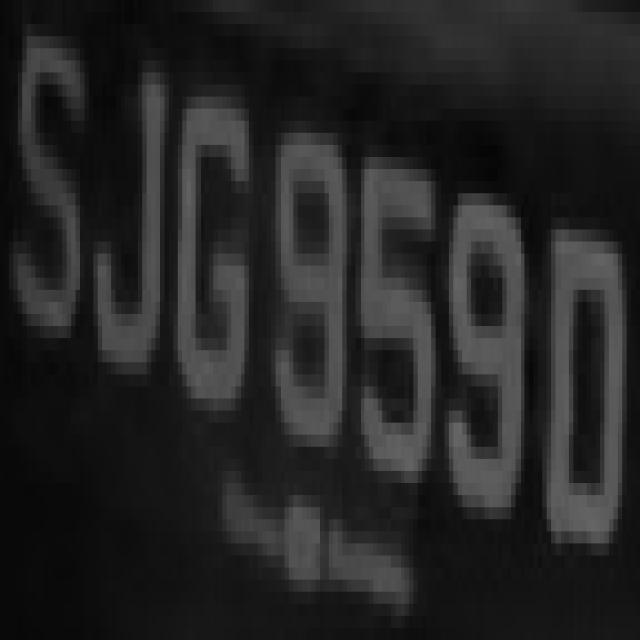5: (346, 96, 426, 544)
9: (440, 145, 529, 531), (271, 85, 356, 483)
D: (542, 157, 636, 580)
G: (169, 48, 258, 459)
J: (89, 60, 173, 362)
S: (0, 11, 93, 386)
